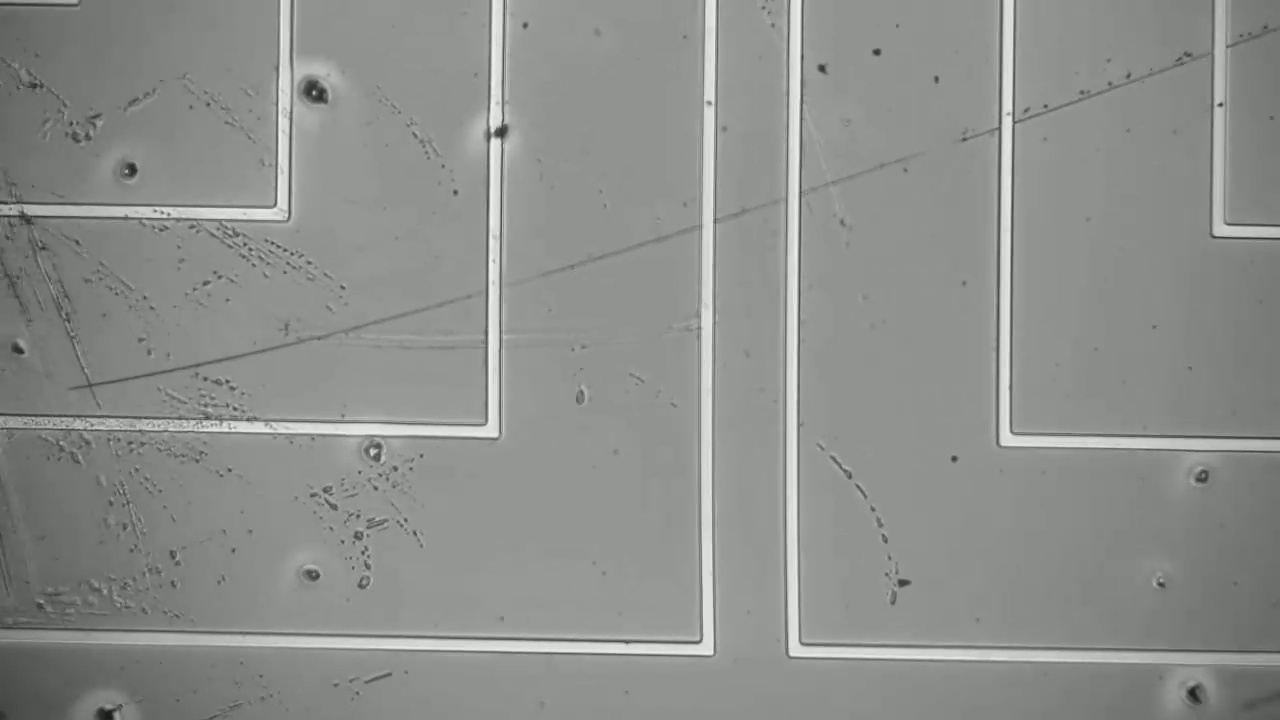scratch: (69, 225, 698, 399), (720, 32, 1273, 227), (20, 226, 92, 402), (820, 453, 897, 586)
stains_enbedded: (477, 112, 509, 153)
